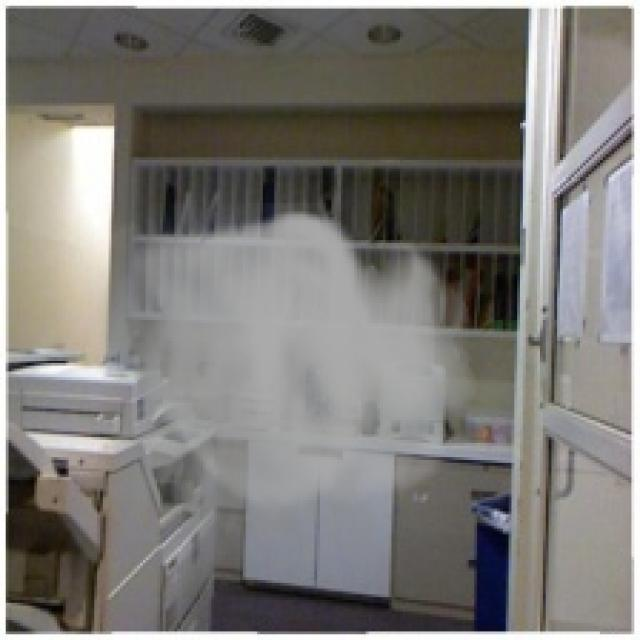Smoke: (80, 202, 477, 618)
